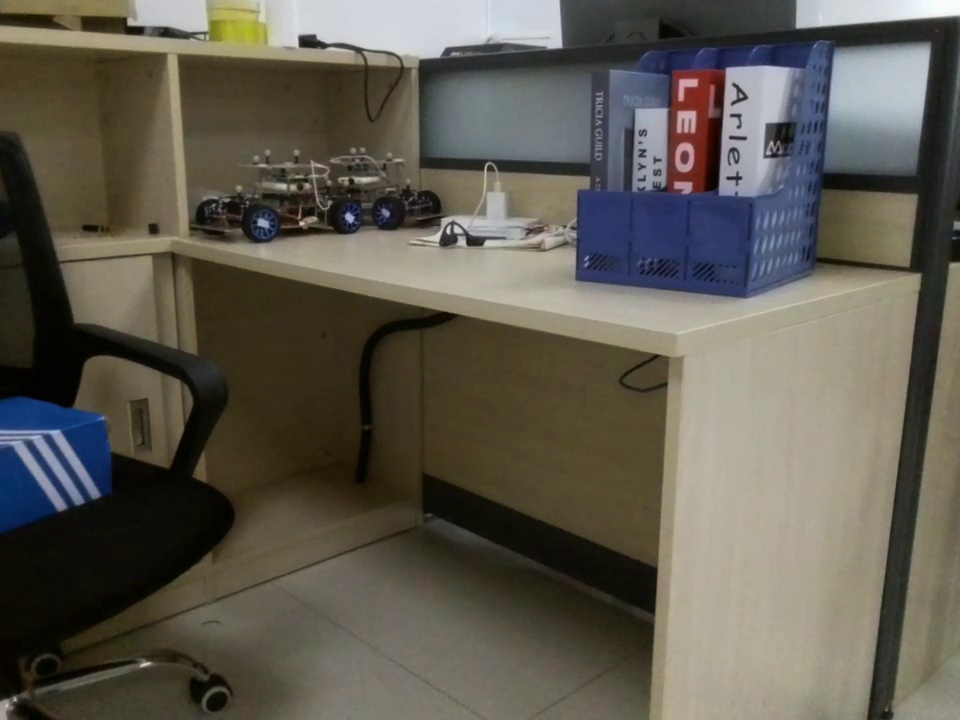files: (582, 34, 828, 301)
